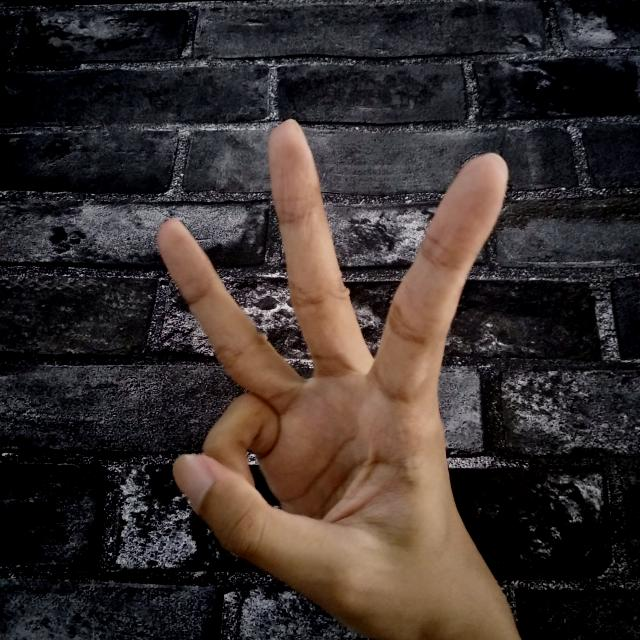W: (147, 102, 520, 640)
